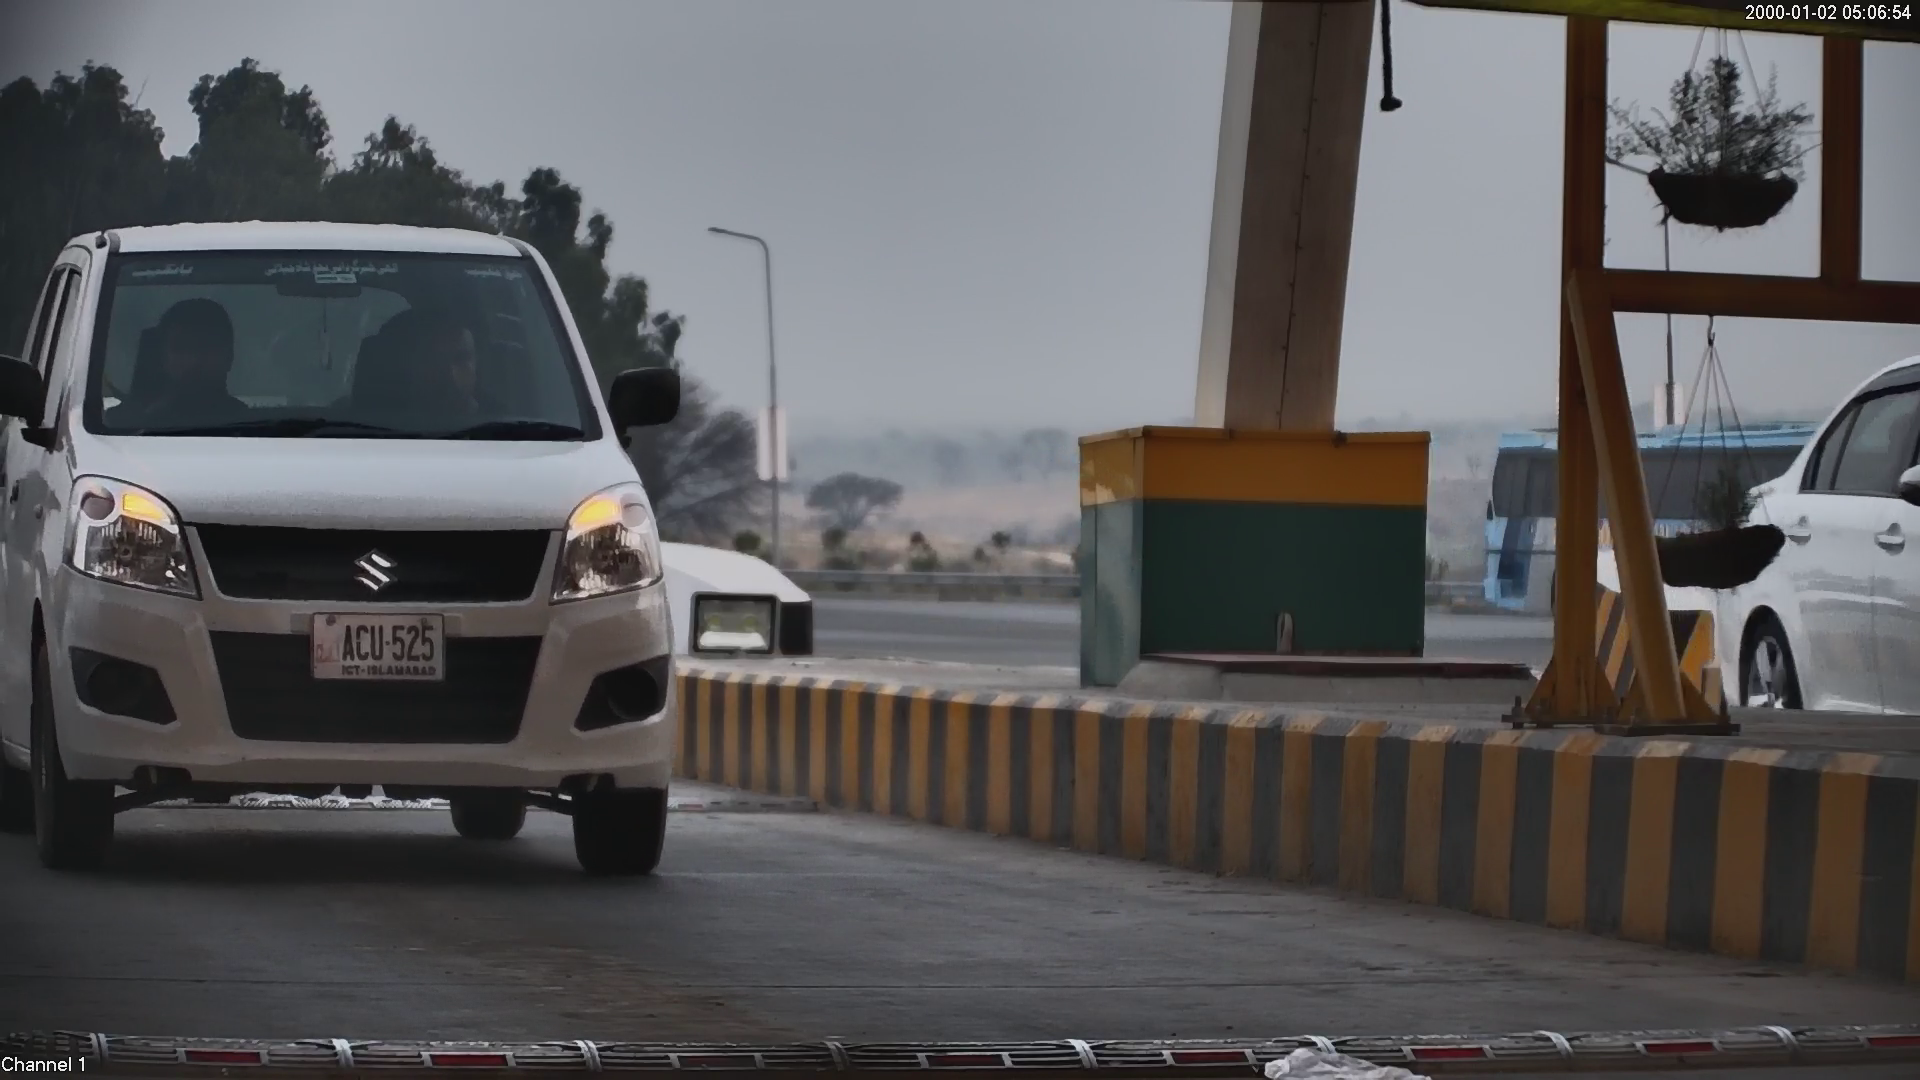Number_Plate: (298, 595, 456, 697)
